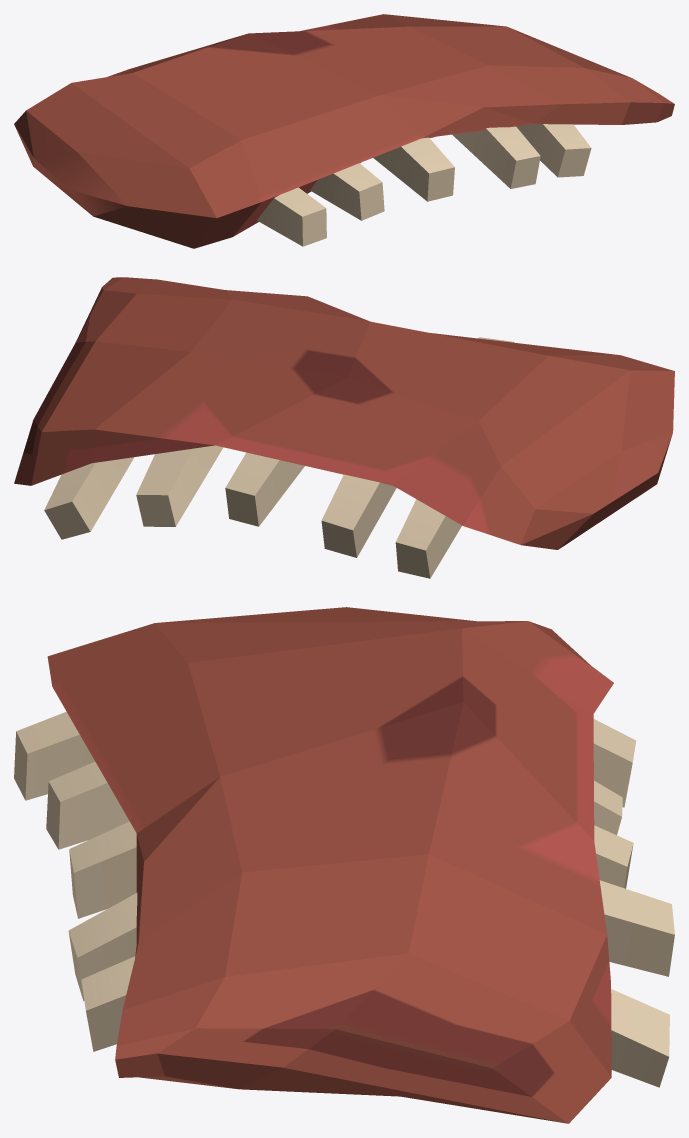
The model's file is SM_Item_Meat_04.fbx.
The picture shows the model from 3 angles, top to bottom: view 1: azimuth 30°, elevation 25°; view 2: azimuth 150°, elevation 25°; view 3: azimuth 270°, elevation 25°; orthographic projection. The views are drawn at different scales.
Visible parts, largest first — view 1: SM_Item_Meat_04; view 2: SM_Item_Meat_04; view 3: SM_Item_Meat_04.
Part boxes in pixels (x1,y1,x2,y2): SM_Item_Meat_04: (14, 14, 674, 248); SM_Item_Meat_04: (14, 277, 674, 578); SM_Item_Meat_04: (14, 607, 674, 1123).
Bounding box in the file's own units: 82.05 × 21.1 × 53.79.
